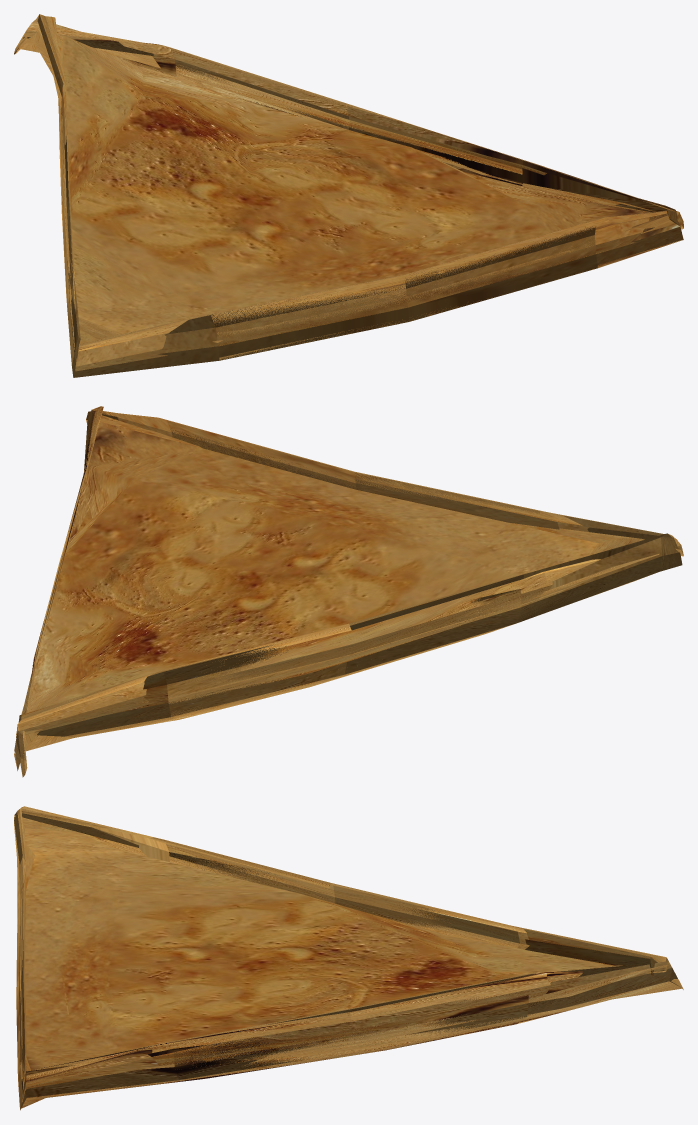
Rendered from sugartri1.gltf.
The picture shows the model from 3 angles, top to bottom: view 1: azimuth 30°, elevation 25°; view 2: azimuth 150°, elevation 25°; view 3: azimuth 270°, elevation 25°; orthographic projection. The views are drawn at different scales.
Visible parts, largest first — view 1: 평면; view 2: 평면; view 3: 평면.
Part boxes in pixels (box(x1,y1,x2,y2)): 평면: box(14, 14, 683, 377); 평면: box(14, 406, 683, 777); 평면: box(14, 806, 683, 1110).
Size of the model in its own units: 0.9377 by 0.0872 by 0.9859.
1 material, 1 textured.
